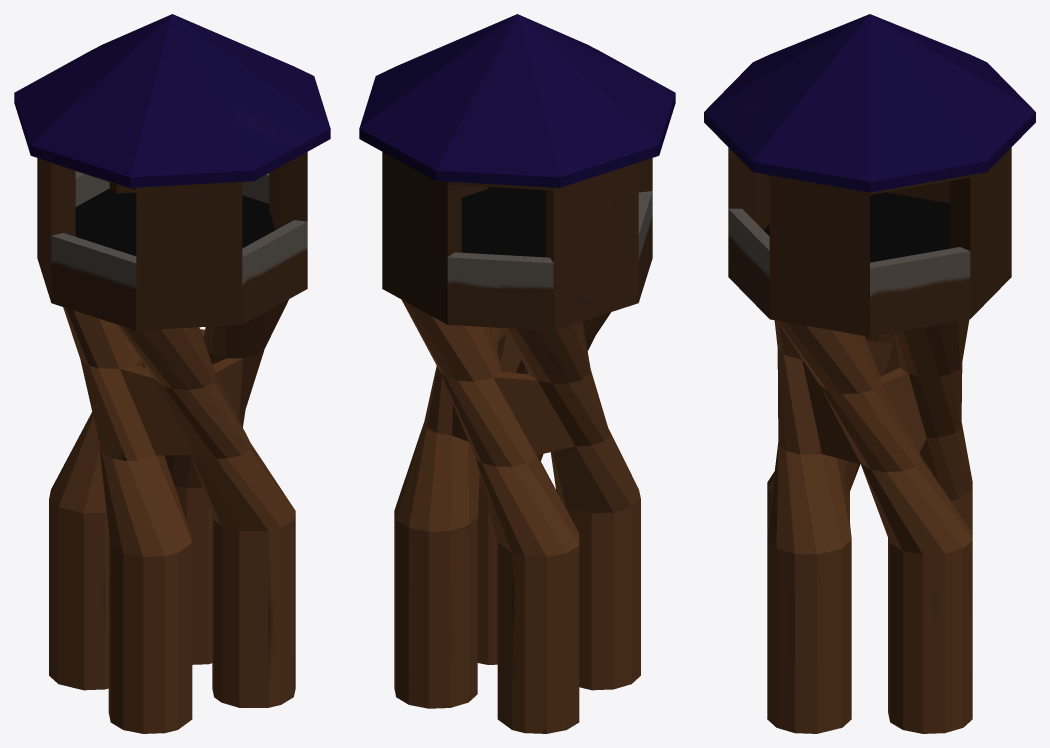
Rendered from ArcherTower.fbx.
The picture shows the model from 3 angles, left to right: view 1: azimuth 30°, elevation 25°; view 2: azimuth 150°, elevation 25°; view 3: azimuth 270°, elevation 25°; orthographic projection.
Parts seen in each view (by area): view 1: Cube; view 2: Cube; view 3: Cube.
Boxes of the visible parts, bbox=[...] form: Cube: bbox=[14, 14, 330, 733]; Cube: bbox=[359, 14, 675, 733]; Cube: bbox=[704, 14, 1035, 733].
Size of the model in its own units: 2.83 by 2.83 by 6.36.
Materials: 2 (2 with a texture image).
